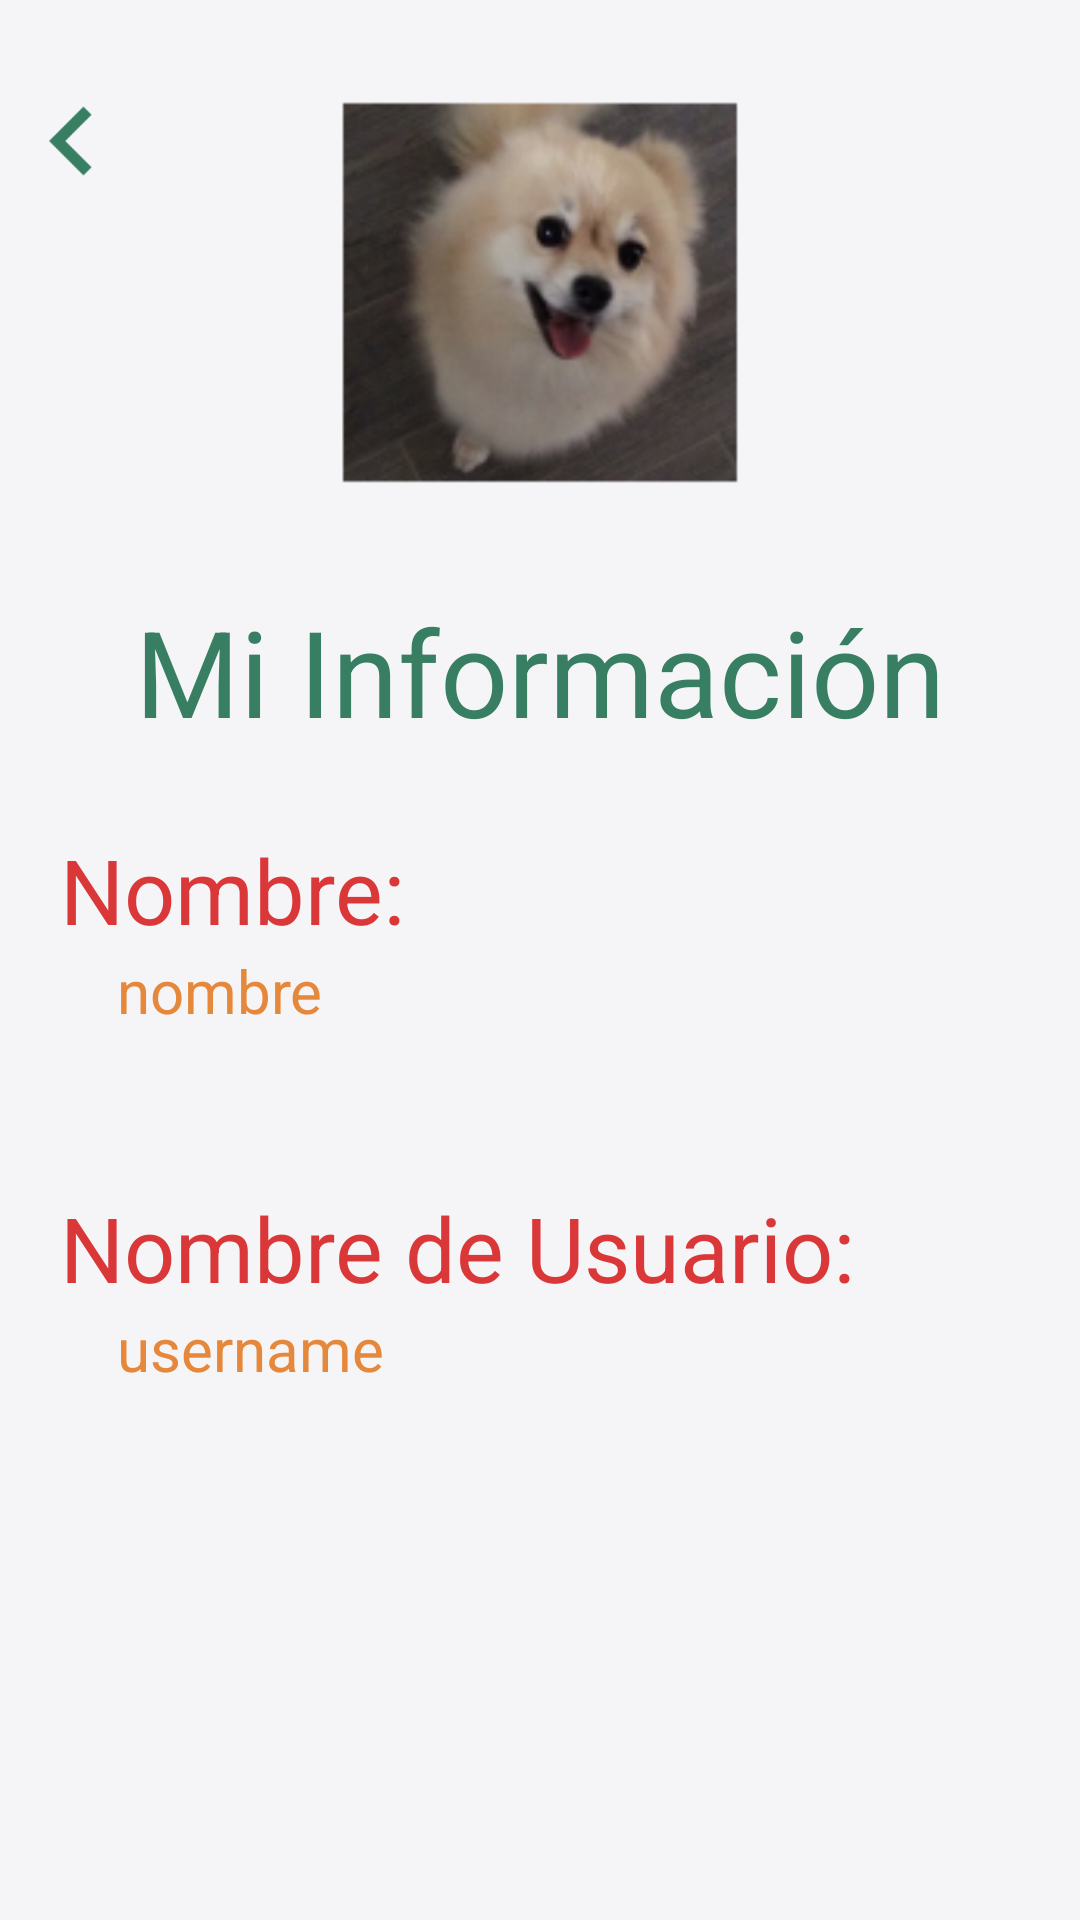

Screen size 1080*1920. Icon name, then its box in pixels as (x1, y1, x2, y2):
back: (49, 106, 92, 176)
